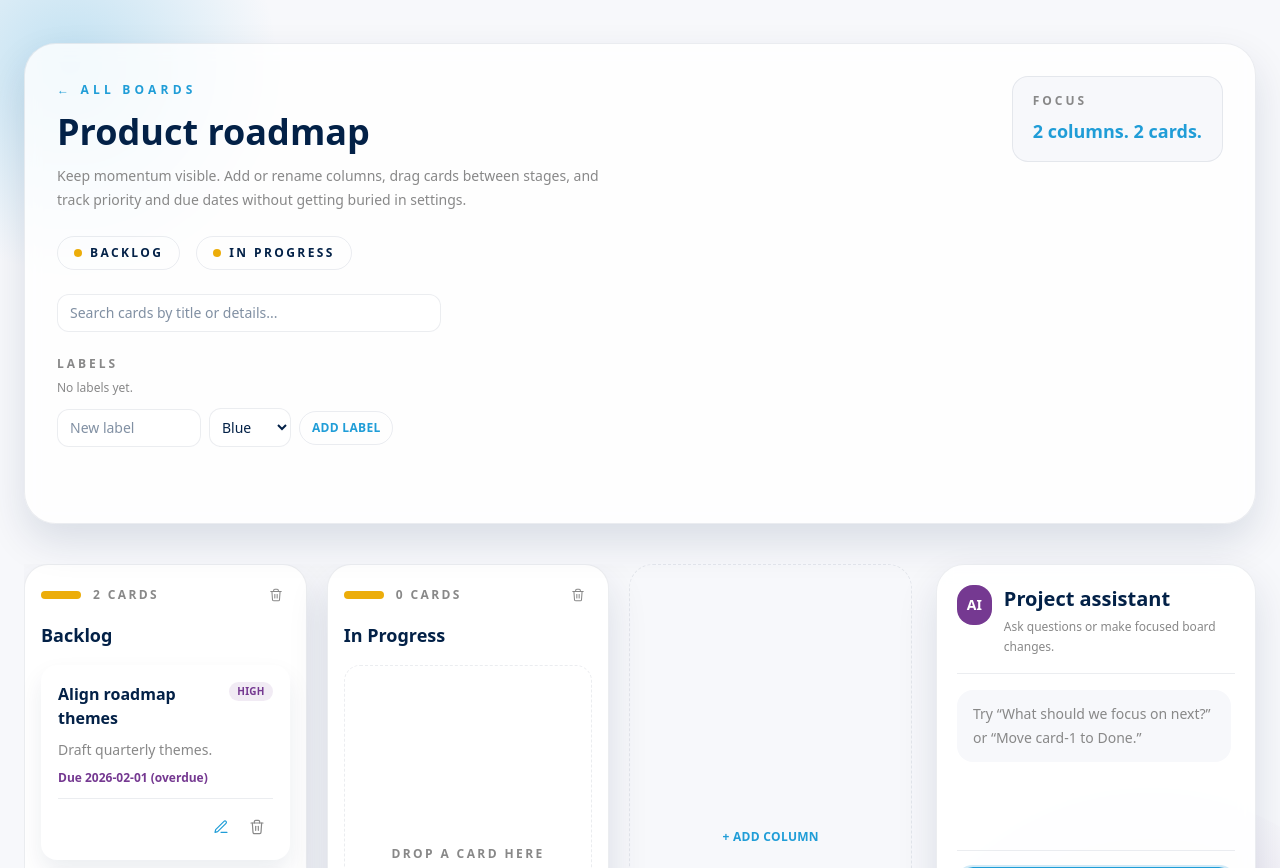
Test: KanbanBoard › shows all cards again once the search query is cleared
Type "customer" into the search field labelled "Search cards" at {"x": 249, "y": 313}, box [57,294,441,332]
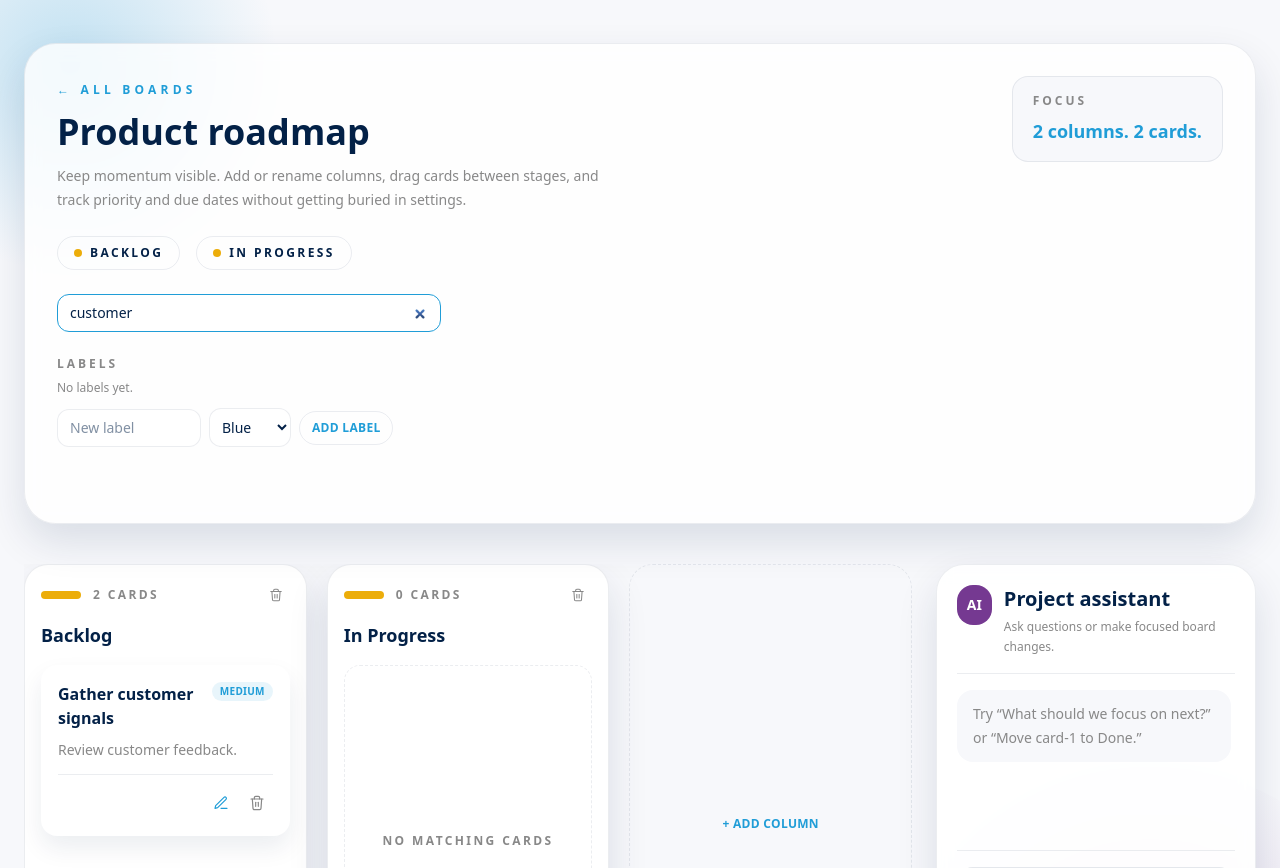
Now the button "Align roadmap themes" is gone
Clear the search field named "Search cards" at {"x": 249, "y": 313}, box [57,294,441,332]
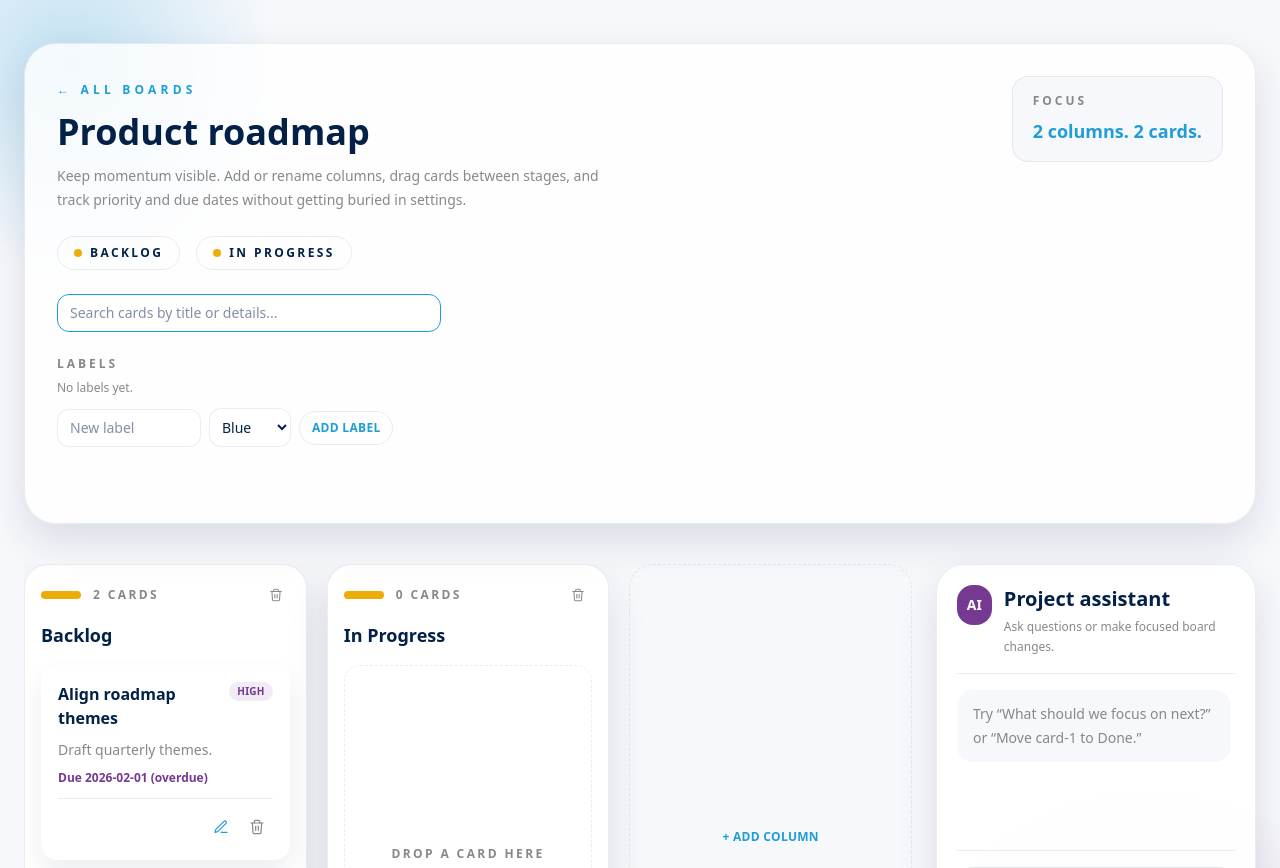
Now the heading "Align roadmap themes" is shown, box [58,683,176,729]
